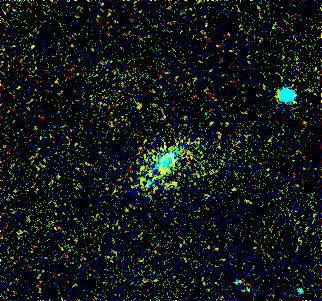star: (147, 160, 177, 190)
